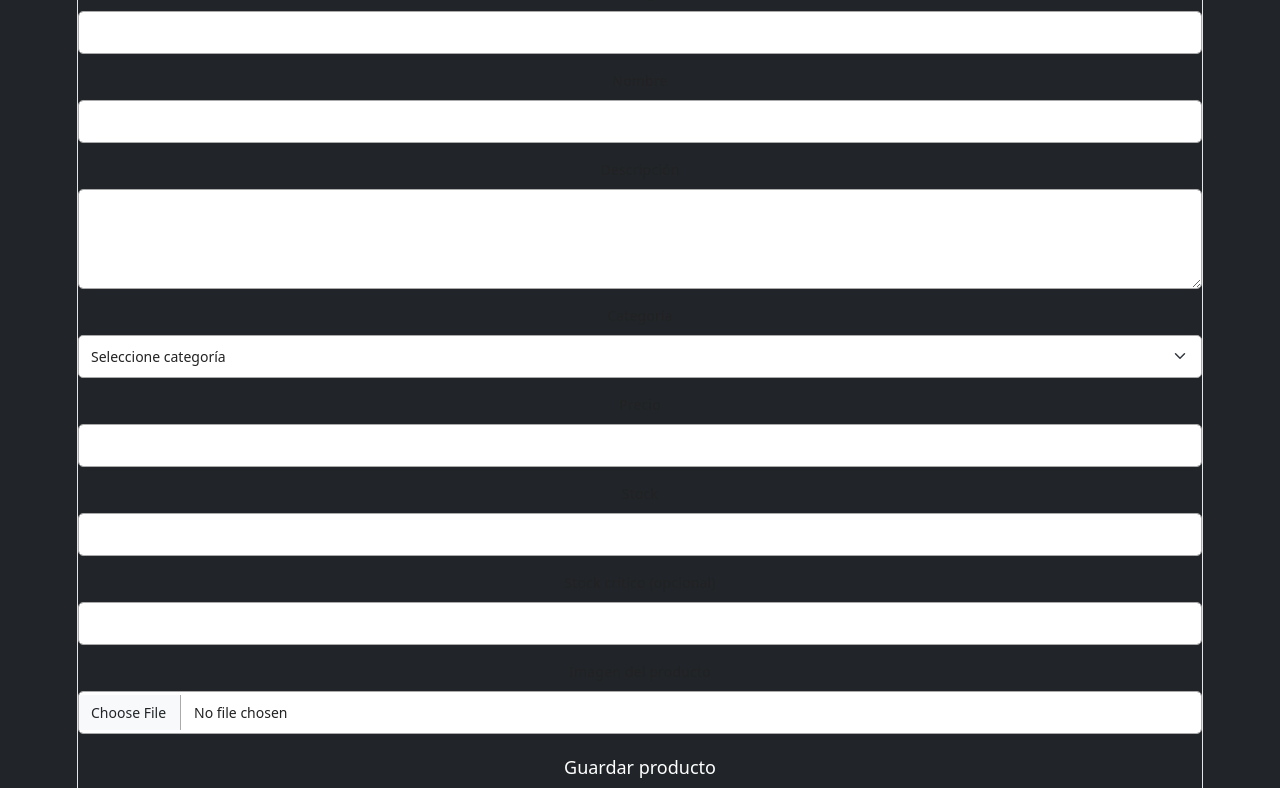
Scenario: Pruebas Unitarias: Componente FormularioProducto › CP-FORMPROD-01: Debe mostrar errores al intentar guardar un producto incompleto
The image size is (1280, 788).
(page scrolled)
Expected: the field labelled "Código" is shown, top-left (78, 11), bottom-right (1202, 54)
Expected: the field labelled "Nombre" is shown, top-left (78, 100), bottom-right (1202, 143)
Click the button "Guardar producto": (640, 767) top-left (78, 746), bottom-right (1202, 787)
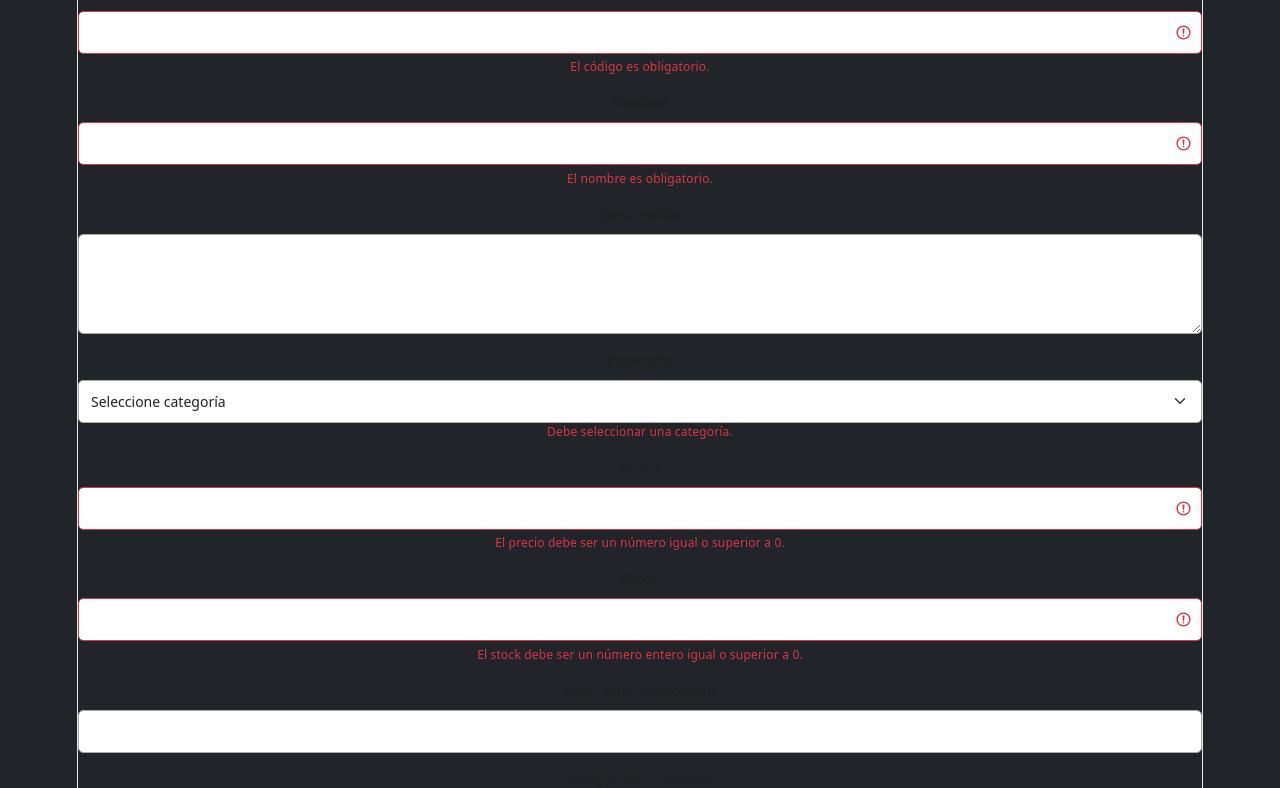
Now the text "El código es obligatorio." is shown, box top-left (570, 58), bottom-right (710, 76)
Now the text "El nombre es obligatorio." is shown, box top-left (567, 170), bottom-right (713, 187)
Now the text "Debe seleccionar una categoría." is shown, box top-left (547, 423), bottom-right (733, 440)
